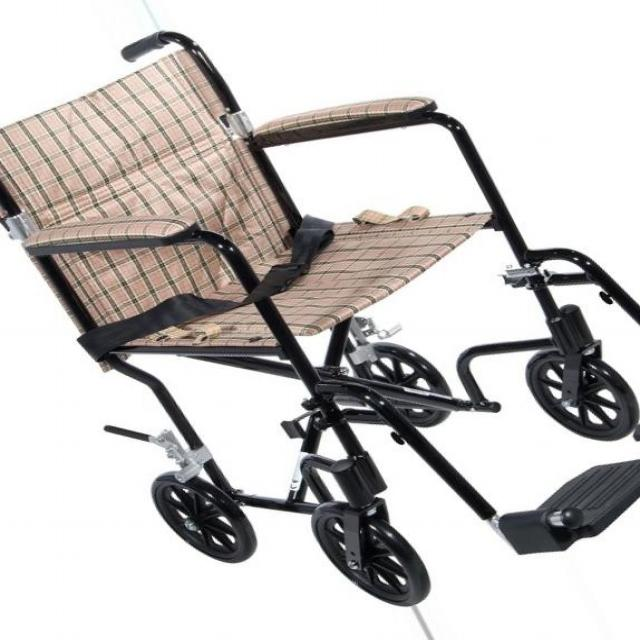wheelchair: (0, 22, 640, 610)
